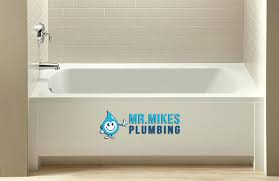bathub: (34, 58, 269, 164)
